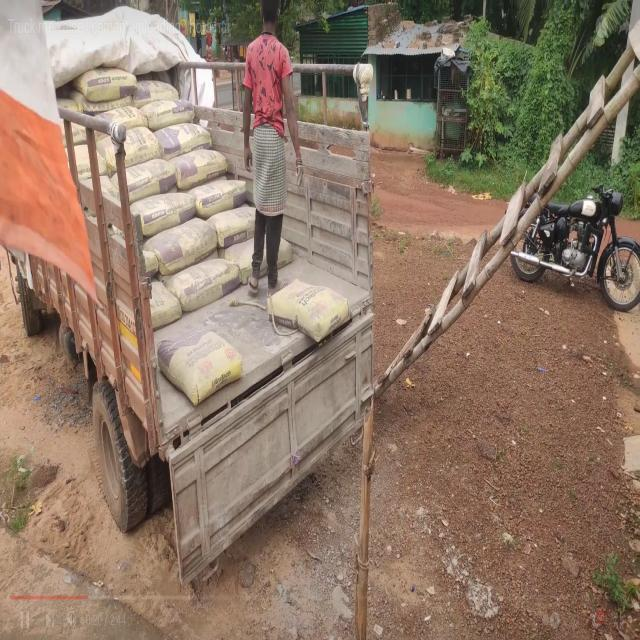gunny_bag: (157, 325, 242, 404), (268, 278, 350, 341), (144, 216, 217, 274), (167, 258, 240, 310), (130, 191, 196, 236), (169, 148, 227, 188), (125, 158, 176, 203), (189, 179, 247, 218), (154, 121, 212, 159), (72, 66, 136, 100), (207, 203, 255, 247), (140, 97, 194, 130), (123, 126, 163, 166), (132, 79, 178, 106), (96, 136, 116, 175)
